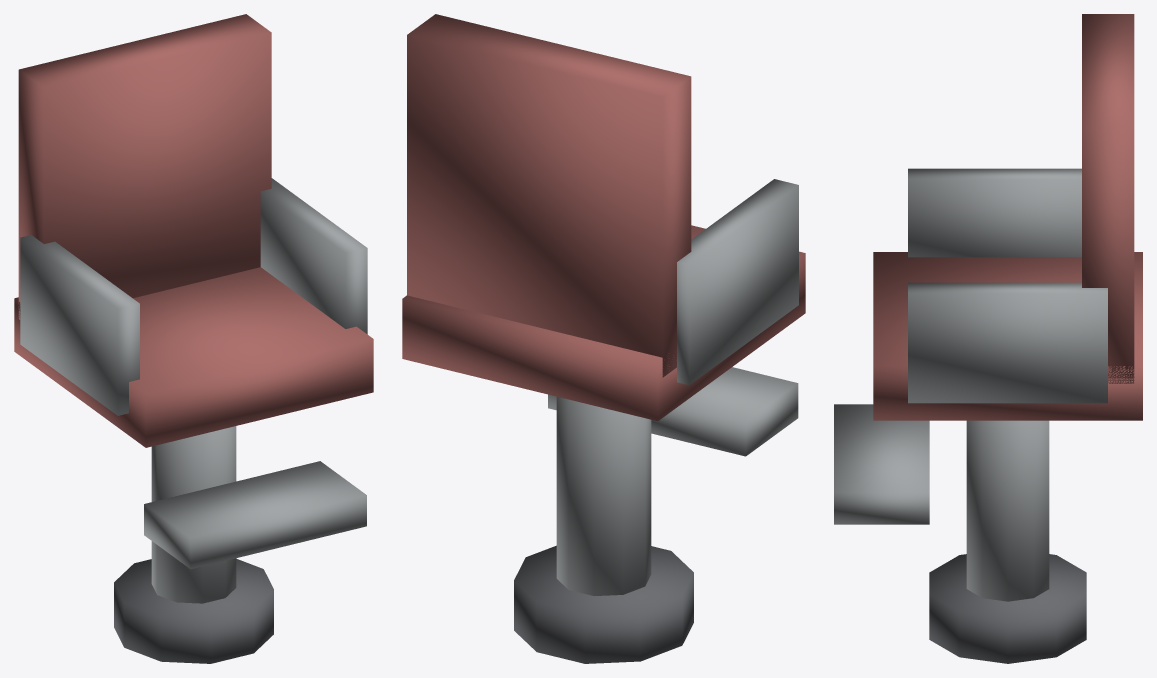
Rendered from barber_chair__tall.glb.
3 renders of one model, left to right at view 1: azimuth 30°, elevation 25°; view 2: azimuth 150°, elevation 25°; view 3: azimuth 270°, elevation 25°, orthographic. The views are drawn at different scales.
Visible parts, largest first — view 1: world; view 2: world; view 3: world.
Part boxes in pixels (left/top/right/bottom): world: left=14, top=14, right=373, bottom=663; world: left=402, top=14, right=805, bottom=663; world: left=834, top=14, right=1142, bottom=663.
Size of the model in its own units: 0.68 by 1.42 by 0.71.
